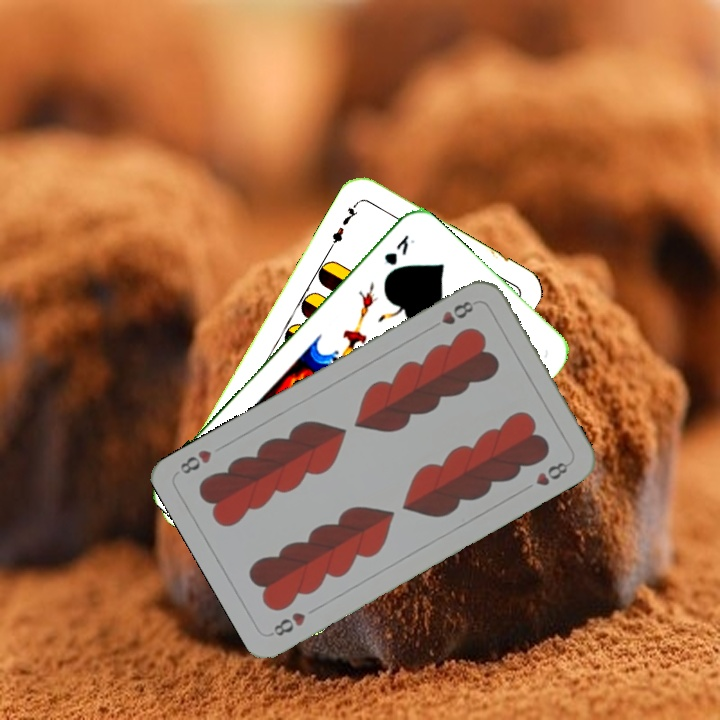E7: (325, 198, 361, 252)
GK: (380, 231, 418, 268)
H8: (267, 608, 309, 639), (437, 296, 476, 328)
